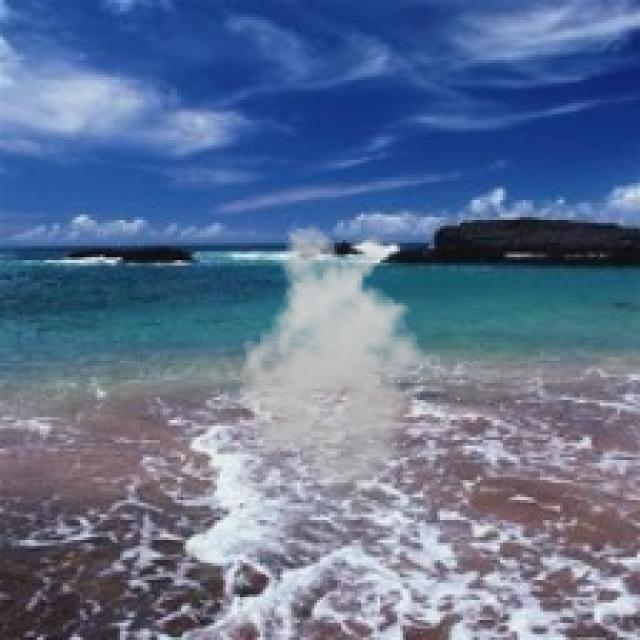Smoke: (228, 223, 443, 492)
